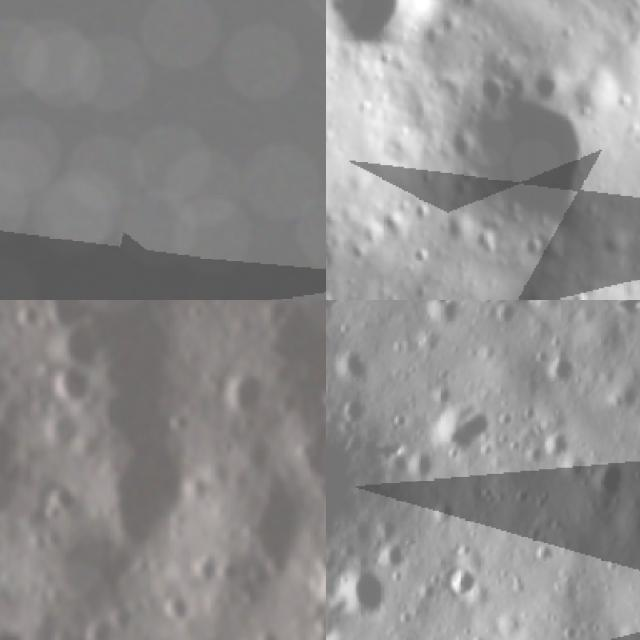crater: (444, 69, 610, 238), (79, 420, 219, 561), (32, 524, 130, 618), (326, 422, 389, 563), (326, 0, 429, 69), (326, 553, 407, 633), (426, 387, 500, 462), (210, 364, 280, 426), (576, 439, 639, 507), (36, 358, 105, 418), (397, 436, 453, 492), (326, 333, 380, 389), (34, 405, 88, 457), (536, 341, 588, 394), (369, 530, 421, 582), (295, 546, 326, 626), (181, 548, 228, 594), (441, 558, 486, 604), (416, 300, 473, 336), (208, 551, 250, 594), (157, 404, 200, 443), (157, 594, 196, 631), (9, 300, 49, 336), (103, 600, 139, 638), (76, 613, 122, 640), (35, 498, 67, 530), (245, 559, 274, 593)
